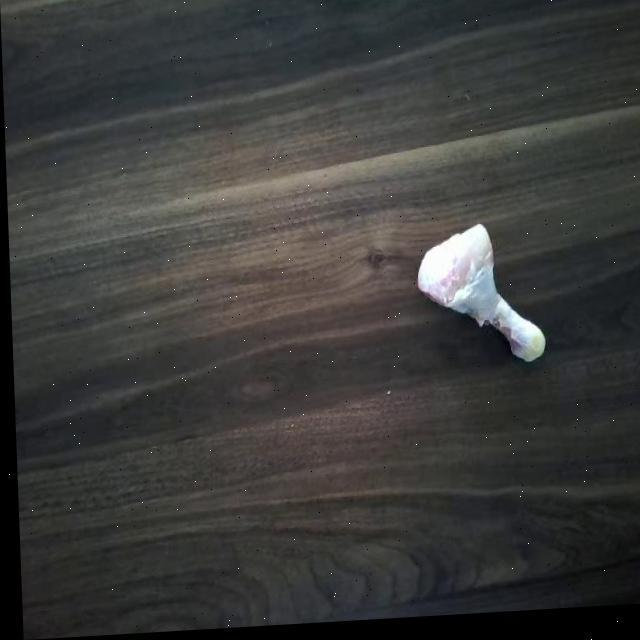leg: (416, 226, 546, 374)
